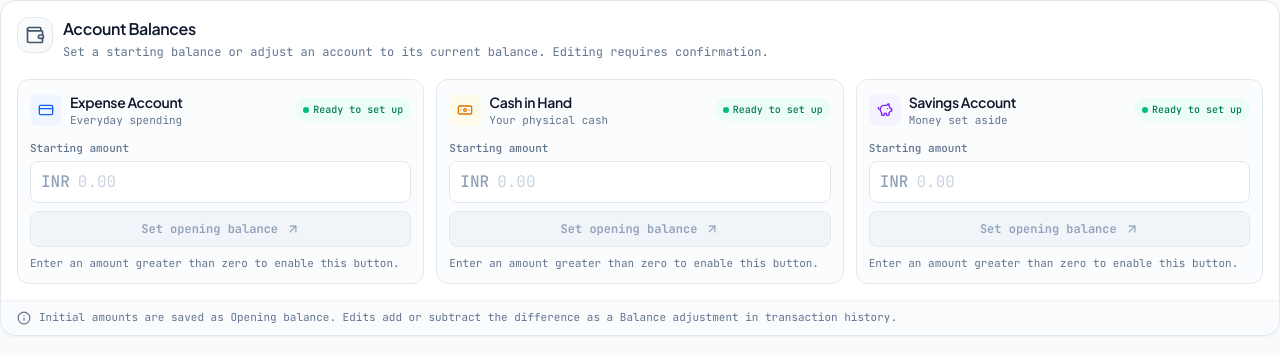
Test: Opening balances › enables the setup button only for a valid positive amount
Check: the button "Set opening balance" below "Your physical cash" is disabled, box [449, 210, 831, 246]
Type "0" into the number field named "Cash in Hand opening balance".
click(658, 182); type("0")  # box [497, 162, 820, 202]
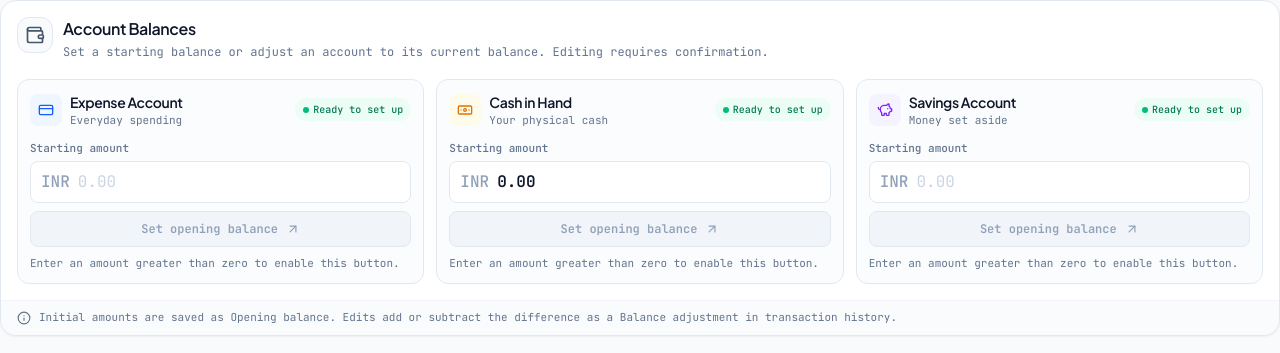
Check: the button "Set opening balance" below "Your physical cash" is disabled, box [449, 210, 831, 246]
Type "100" into the number field named "Cash in Hand opening balance".
click(658, 182); type("100")  # box [497, 162, 820, 202]
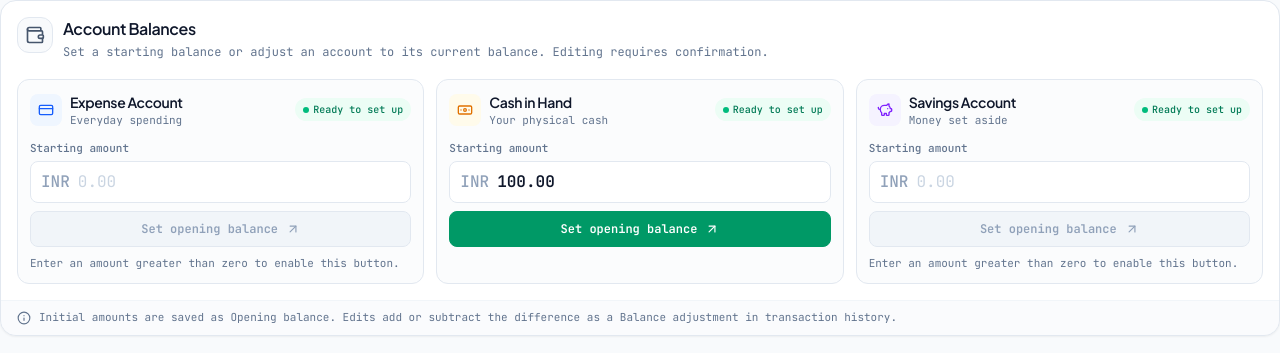
Check: the button "Set opening balance" below "Your physical cash" is enabled, box [449, 210, 831, 246]
Clear the number field named "Cash in Hand opening balance" at (658,182), box [497, 162, 820, 202]
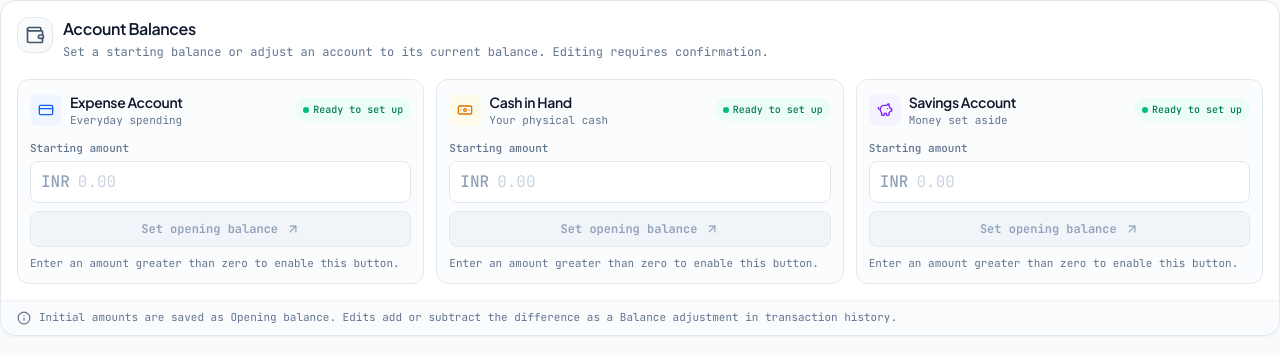
Check: the button "Set opening balance" below "Your physical cash" is disabled, box [449, 210, 831, 246]
